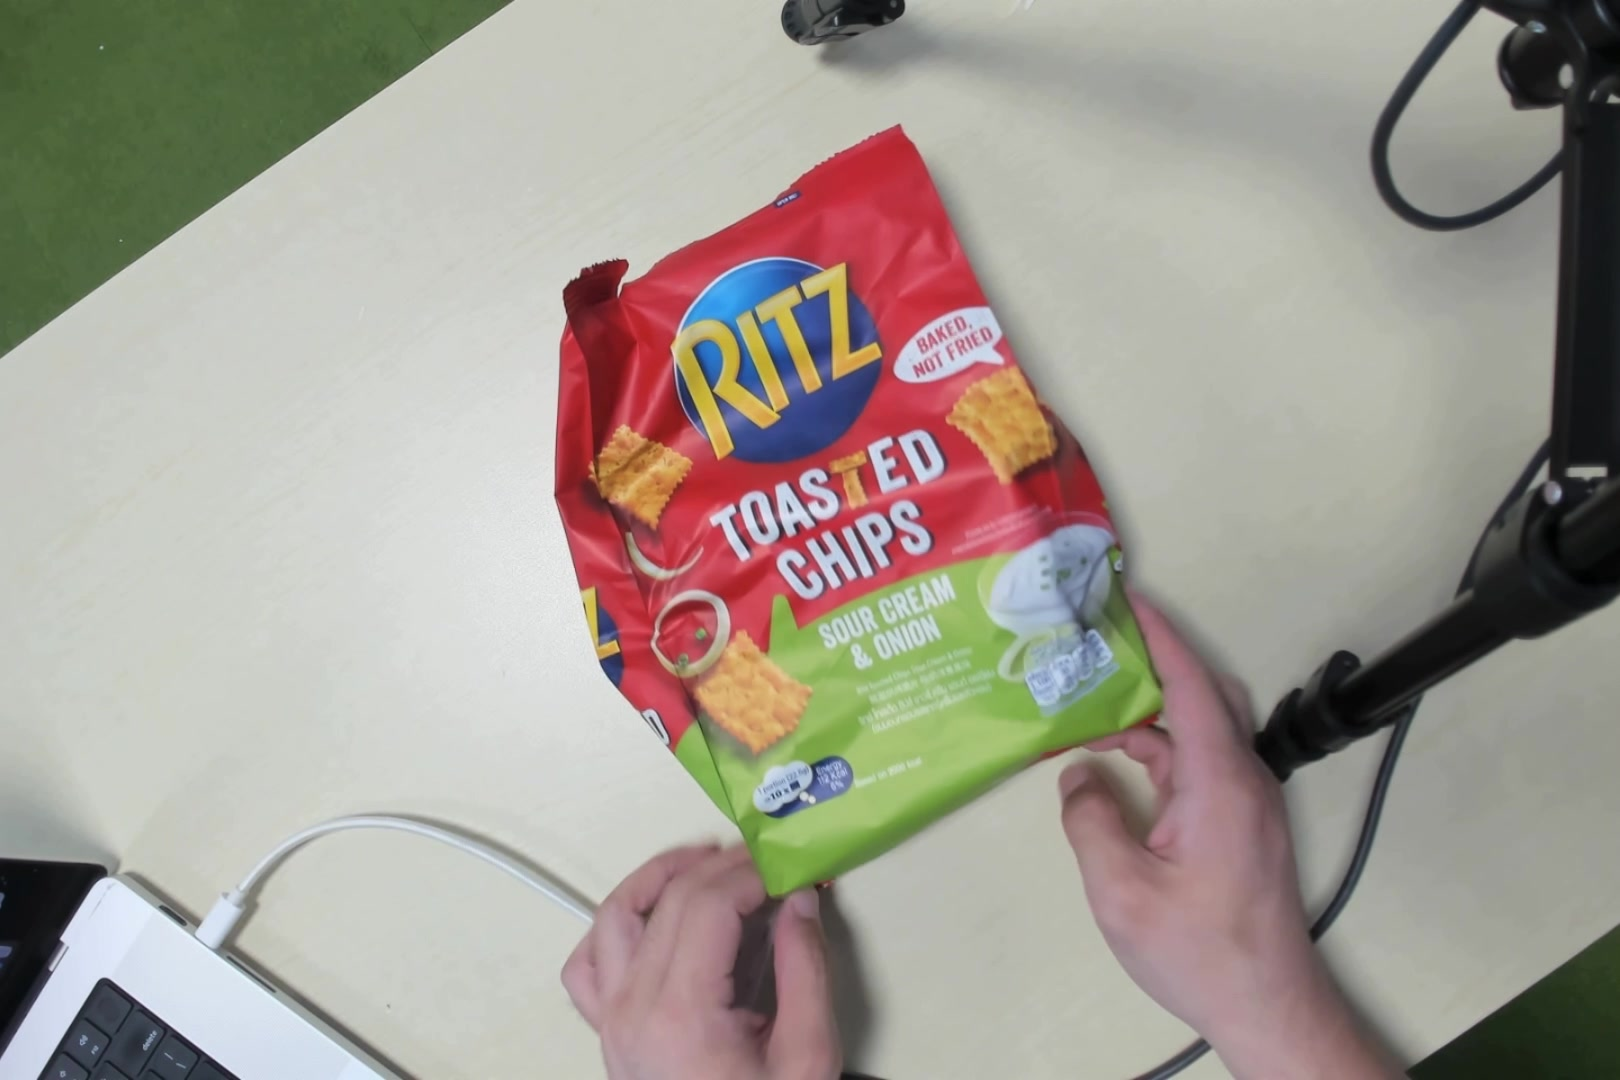BiscuitsCrackersCookies_200-299g_NonHalal_NonHealthy: (611, 172, 1093, 871)
